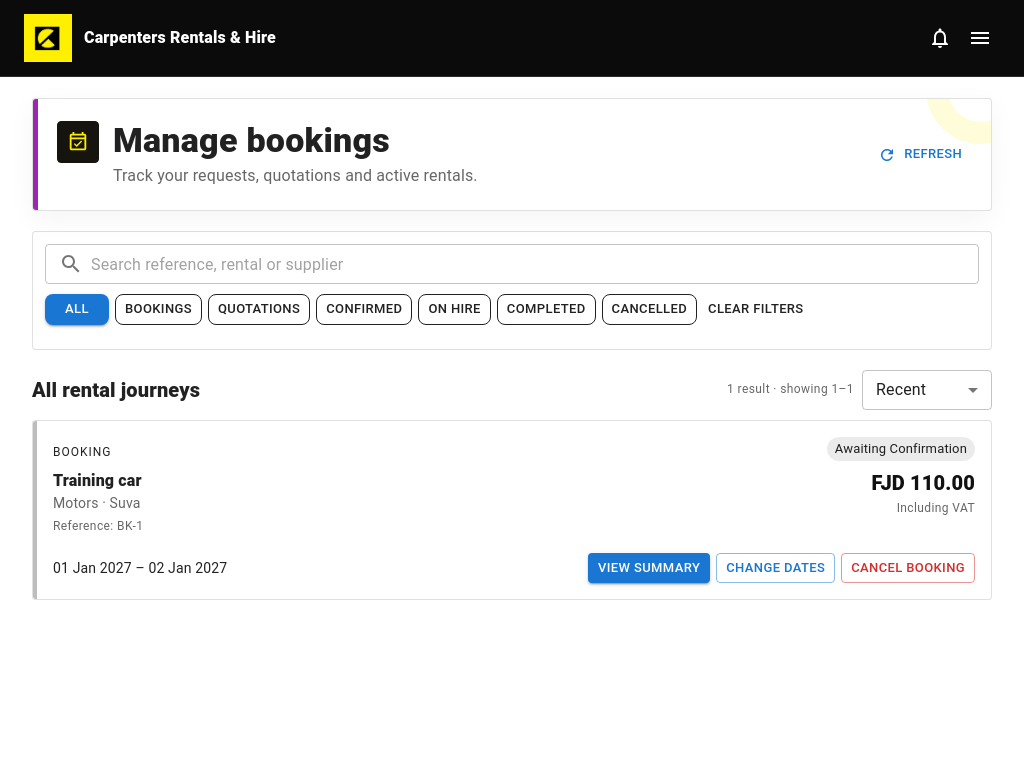
Scenario: saves changed draft dates with the Fiji timezone
Expected: the text "Training car" is shown, [53,469,143,493]
Click the button "Change dates": (776, 568) [716,553,835,584]
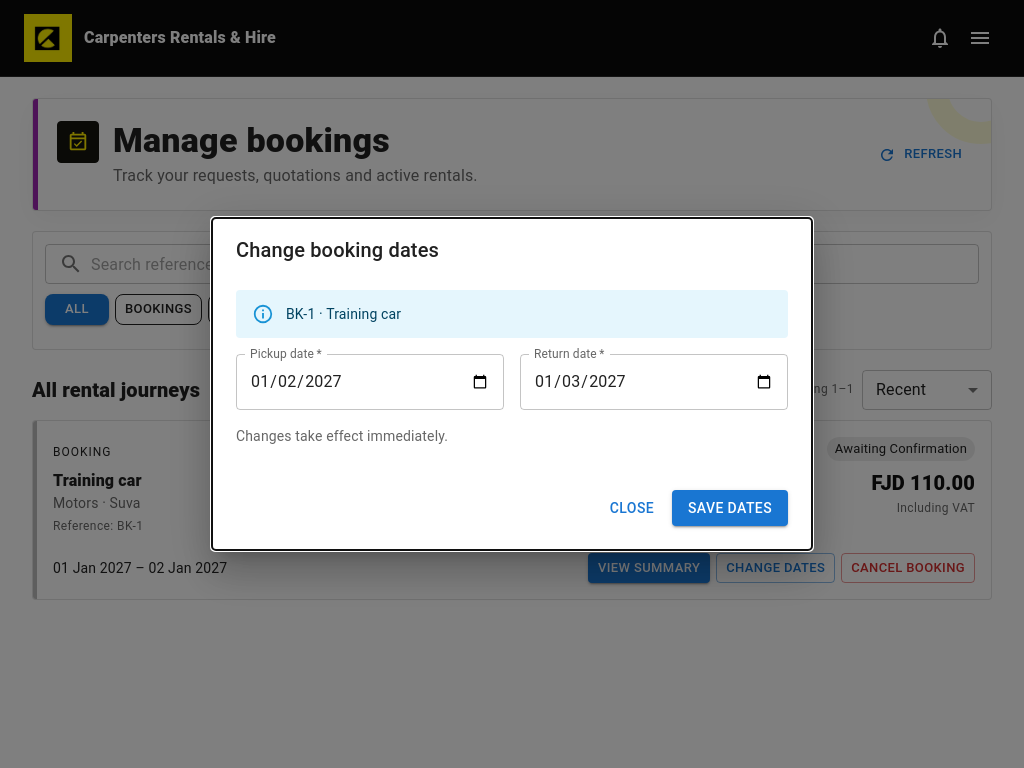
In the date field labelled "Pickup date *": (370, 382) [236,354,504,410], type "2027-02-01"
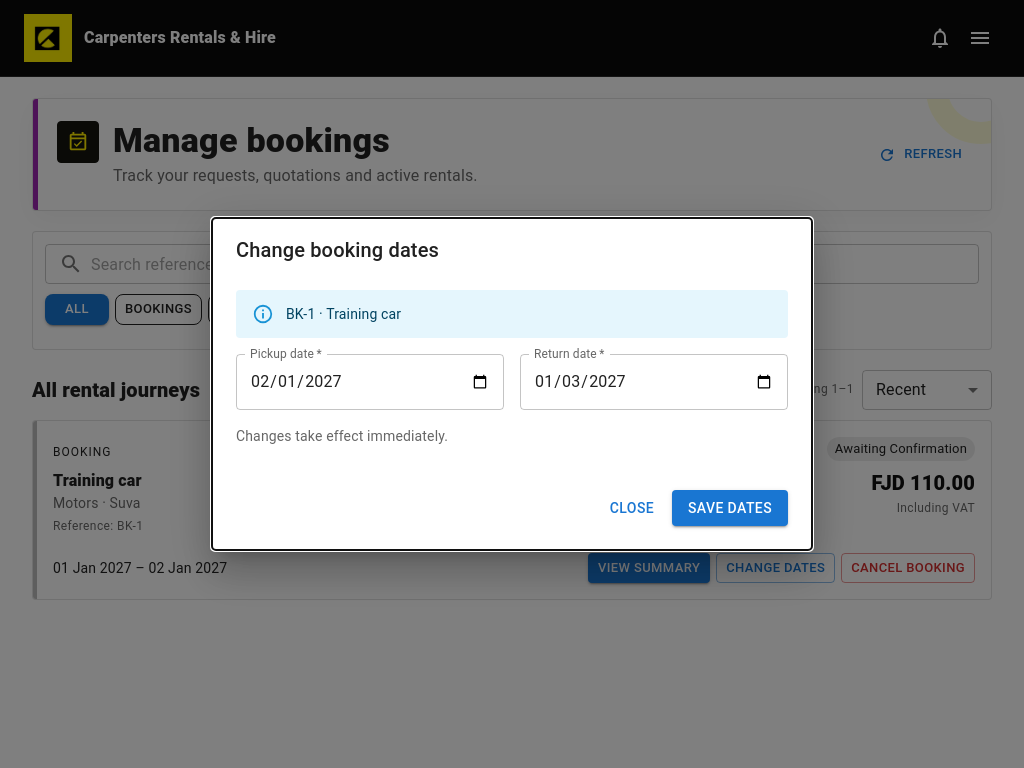
In the date field labelled "Return date *": (654, 382) [520,354,788,410], type "2027-02-03"
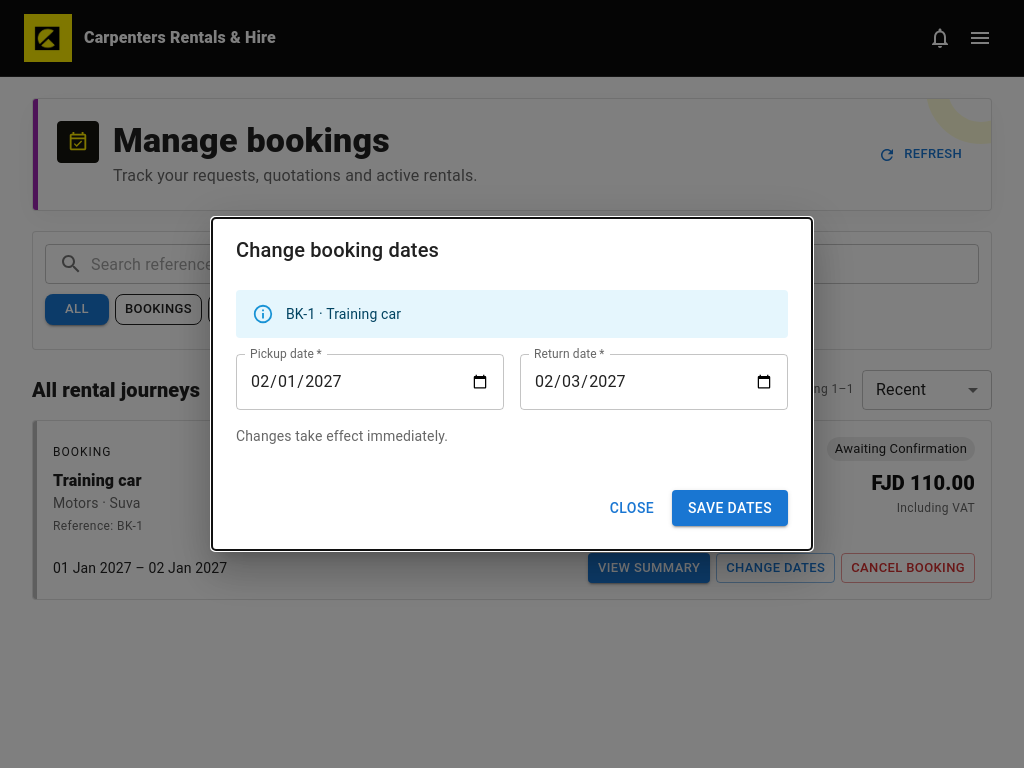
Click the button "Save dates": (730, 508) [672,490,788,526]
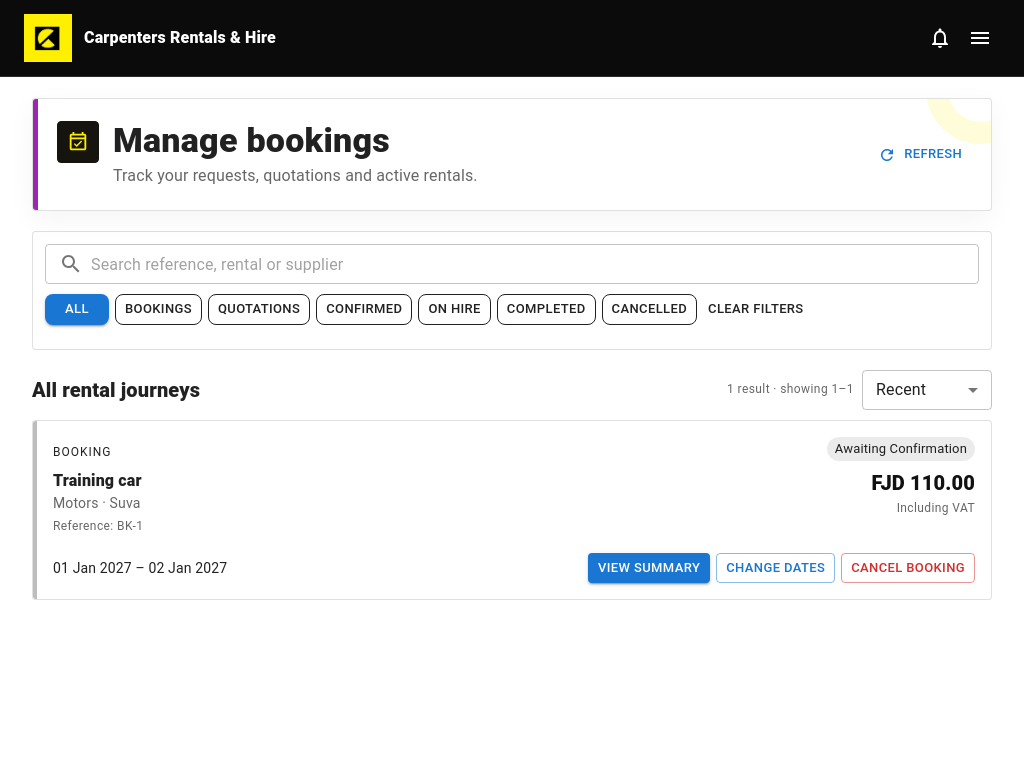
Expected: the dialog is gone
